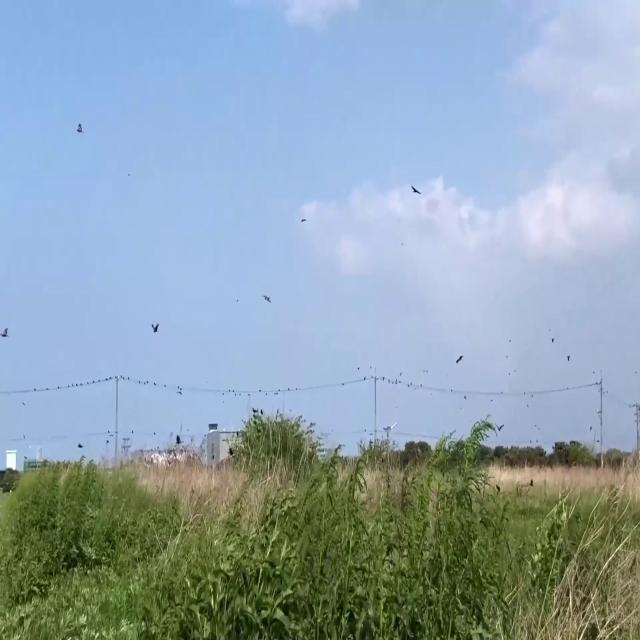bird: (410, 174, 421, 204), (262, 284, 272, 309), (152, 314, 160, 342), (0, 318, 8, 346), (494, 418, 504, 438), (455, 348, 464, 370), (300, 208, 307, 230)
